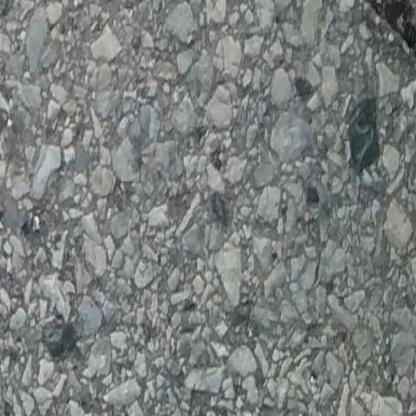Cracks: (307, 0, 416, 100)
